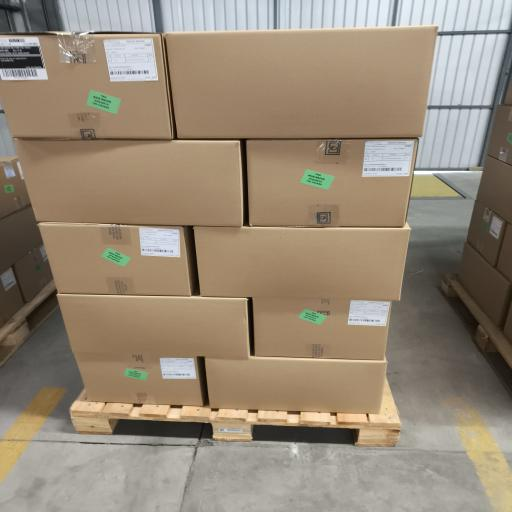pallet: (71, 381, 400, 446), (442, 275, 511, 392), (0, 281, 58, 366)
